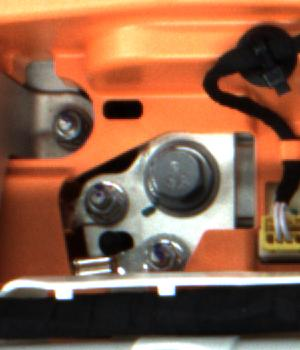nut_b: (140, 141, 218, 215)
screw_s: (47, 105, 89, 147), (139, 238, 178, 271), (82, 181, 120, 214)
